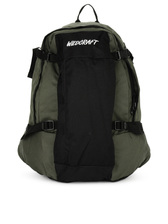bag: (17, 5, 152, 188)
